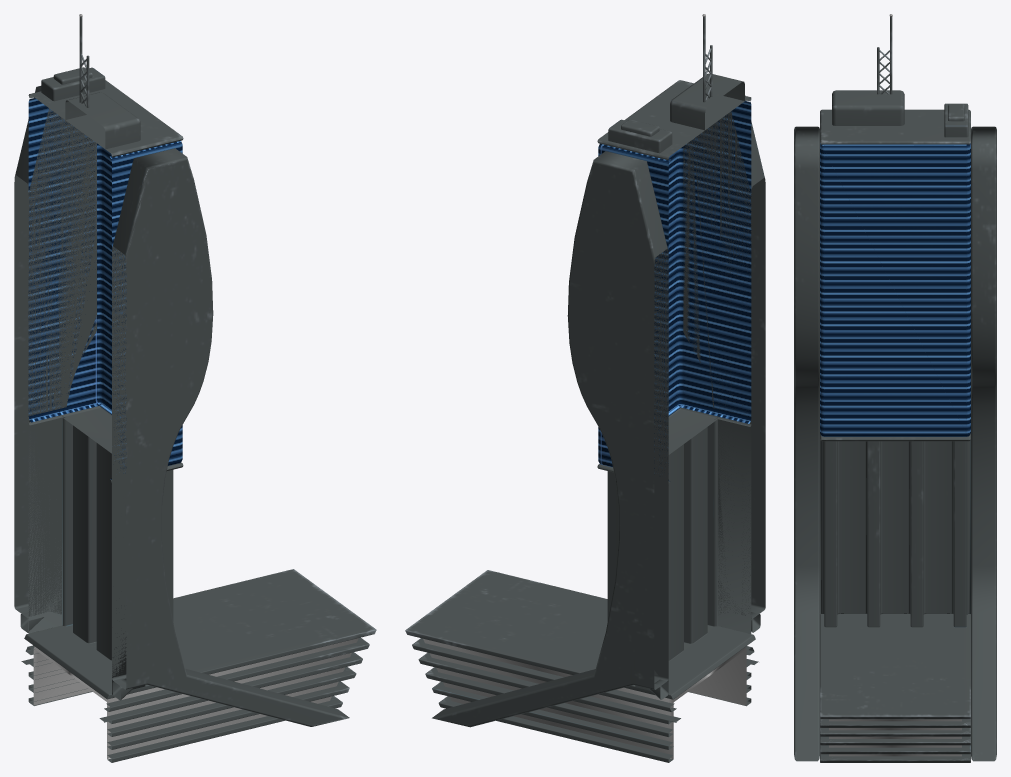
File: Building_15.fbx
3 renders of one model, left to right at view 1: azimuth 30°, elevation 25°; view 2: azimuth 150°, elevation 25°; view 3: azimuth 270°, elevation 25°, orthographic. The views are drawn at different scales.
Visible parts, largest first — view 1: b_15_01, b_15_03, b_15_02; view 2: b_15_01, b_15_03, b_15_02; view 3: b_15_01, b_15_03, b_15_02.
Part boxes in pixels (x1=…): b_15_01: x1=14, y1=17, x2=376, y2=762; b_15_03: x1=28, y1=98, x2=182, y2=479; b_15_02: x1=33, y1=14, x2=358, y2=758; b_15_01: x1=405, y1=17, x2=765, y2=762; b_15_03: x1=598, y1=101, x2=751, y2=481; b_15_02: x1=423, y1=14, x2=746, y2=758; b_15_01: x1=794, y1=16, x2=996, y2=762; b_15_03: x1=820, y1=143, x2=970, y2=436; b_15_02: x1=829, y1=14, x2=961, y2=756.
Size of the model in its own units: 14.35 by 36.1 by 10.18.
